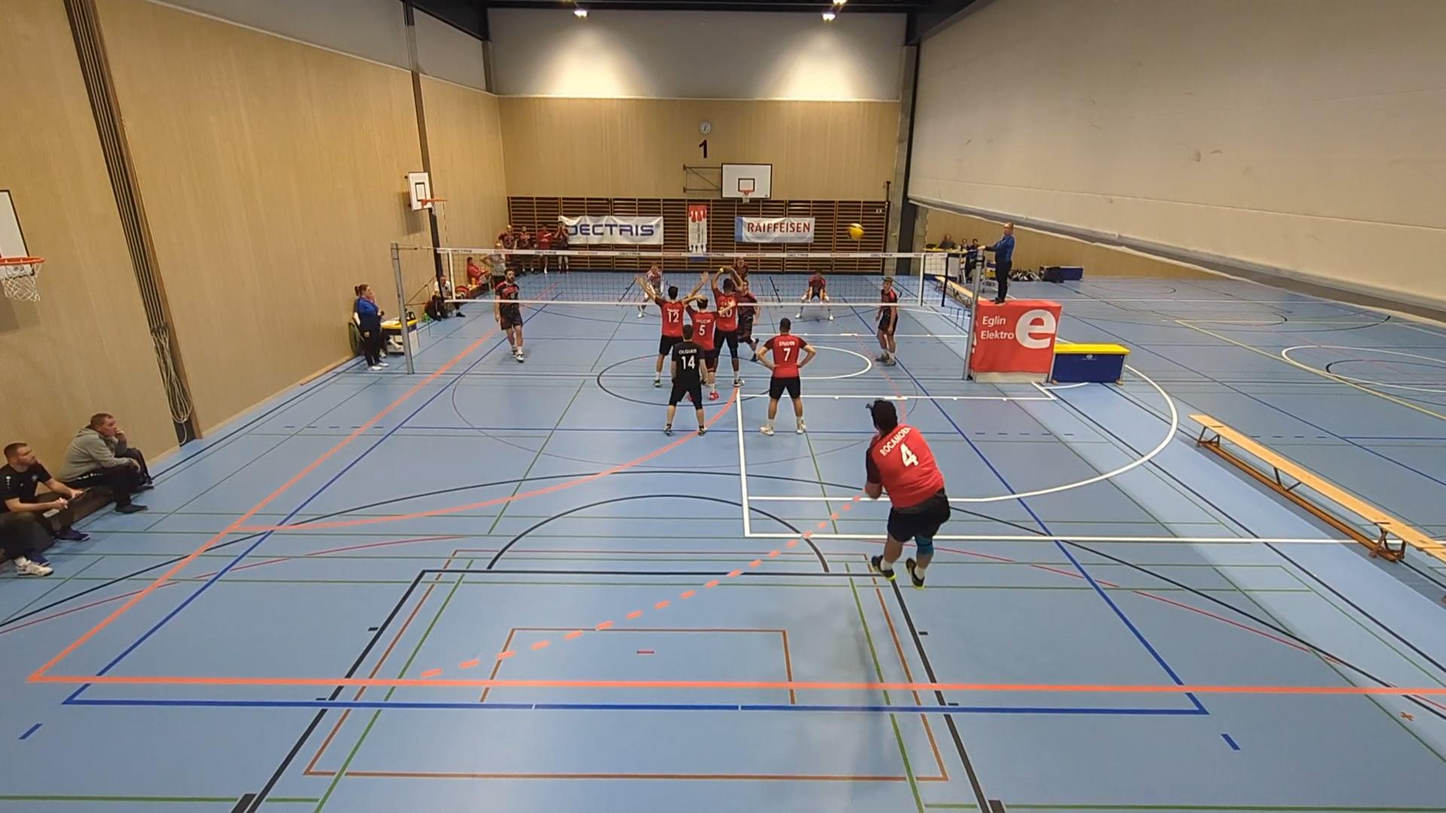Player: (759, 318, 816, 435), (642, 279, 701, 386), (664, 325, 706, 434), (712, 267, 743, 388), (686, 297, 717, 399), (494, 269, 523, 362), (876, 276, 898, 365), (795, 271, 833, 320), (737, 278, 758, 361), (639, 263, 664, 291), (731, 256, 750, 279)
Serve: (861, 392, 958, 587)
ball: (848, 221, 865, 237)
